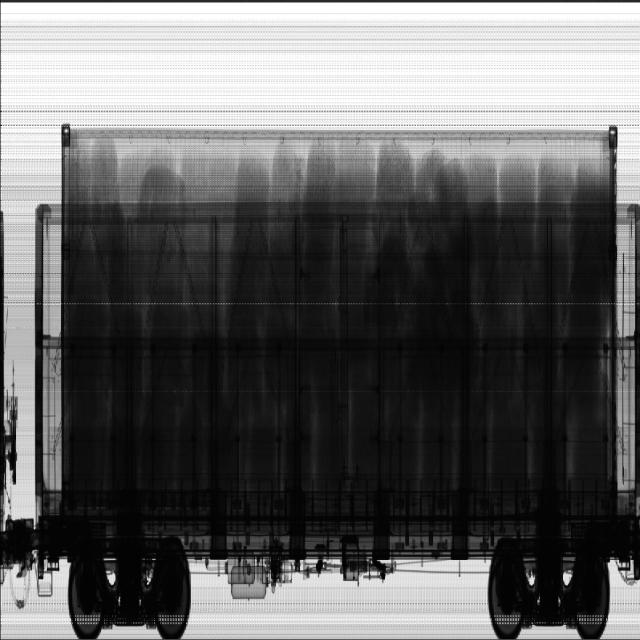clothes: (63, 140, 614, 506)
